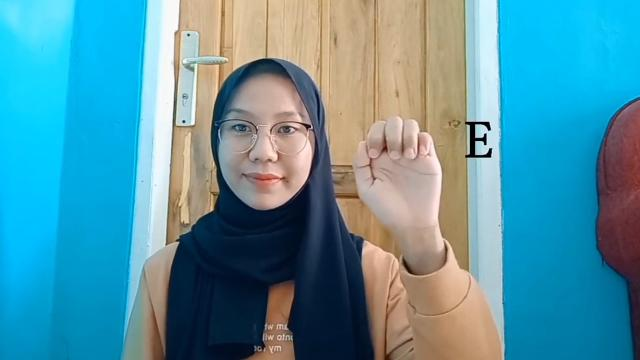E: (352, 114, 446, 230)
